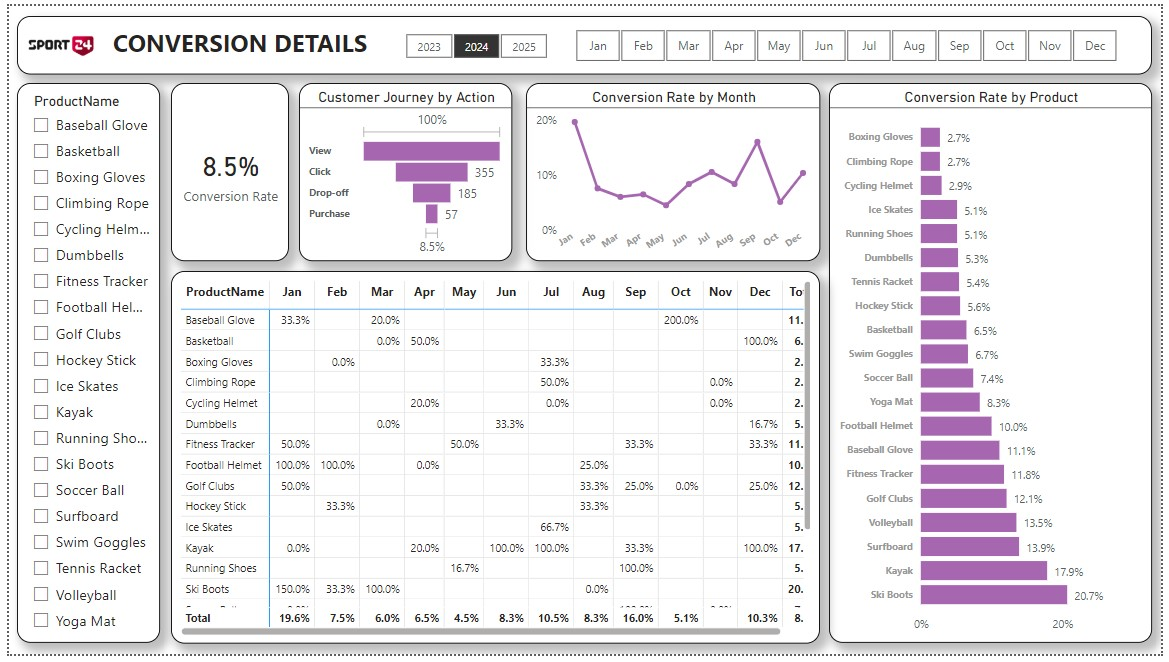

Layout of this report page (visuals, bound fields, positions):
{"tool":"powerbi","page":{"name":"Conversion Details","canvas":[1280,720],"ordinal":1},"visuals":[{"type":"textbox","box":[9.1,11.4,1261.1,64.9],"z":0},{"type":"slicer","fields":{"Values":["dim_products.ProductName"]},"box":[9.1,85.4,159.5,622],"z":2000},{"type":"card","title":"Conversion Rate","fields":{"Values":["Measures_.Conversion Rate"]},"box":[180,85.4,131,198.2],"z":3000},{"type":"lineChart","title":"Conversion Rate by Month","fields":{"Category":["Calendar.MonthNameShort"],"Y":["Measures_.Conversion Rate"]},"box":[574.4,85.6,337.8,197.8],"z":4000},{"type":"barChart","title":"Conversion Rate by Product","fields":{"Category":["dim_products.ProductName"],"Y":["Measures_.Conversion Rate"]},"box":[922.2,85.6,347.8,622.2],"z":5000},{"type":"funnel","title":"Customer Journey by Action","fields":{"Category":["fact_customer_journey.Action"],"Y":["Measures_.Total No Of Customer Journey"]},"box":[322.4,85.4,237,198.2],"z":6000},{"type":"pivotTable","fields":{"Values":["Measures_.Conversion Rate"],"Rows":["dim_products.ProductName"],"Columns":["Calendar.MonthNameShort"]},"box":[180,294.4,732.2,413.3],"z":7000},{"type":"slicer","fields":{"Values":["Calendar.MonthNameShort"]},"box":[604.9,20.5,650.5,47.8],"z":8000},{"type":"slicer","fields":{"Values":["Calendar.Date.Variation.Date Hierarchy.Year"]},"box":[415.8,23.9,206.2,38.7],"z":8500},{"type":"image","box":[9.1,1.1,98,85.4],"z":8501}]}

Visuals, with their boxes in screenshot pixels (x1, y1, x2, y2), scaled from the page's 1280x720 canvas onto the 1169x662 screenshot:
textbox: {"left": 8, "top": 10, "right": 1160, "bottom": 70}
slicer - dim_products.ProductName: {"left": 8, "top": 79, "right": 154, "bottom": 650}
"Conversion Rate" card: {"left": 164, "top": 79, "right": 284, "bottom": 261}
"Conversion Rate by Month" lineChart: {"left": 525, "top": 79, "right": 833, "bottom": 261}
"Conversion Rate by Product" barChart: {"left": 842, "top": 79, "right": 1160, "bottom": 651}
"Customer Journey by Action" funnel: {"left": 294, "top": 79, "right": 511, "bottom": 261}
pivotTable - Measures_.Conversion Rate x dim_products.ProductName: {"left": 164, "top": 271, "right": 833, "bottom": 651}
slicer - Calendar.MonthNameShort: {"left": 552, "top": 19, "right": 1147, "bottom": 63}
slicer - Calendar.Date.Variation.Date Hierarchy.Year: {"left": 380, "top": 22, "right": 568, "bottom": 58}
image: {"left": 8, "top": 1, "right": 98, "bottom": 80}
